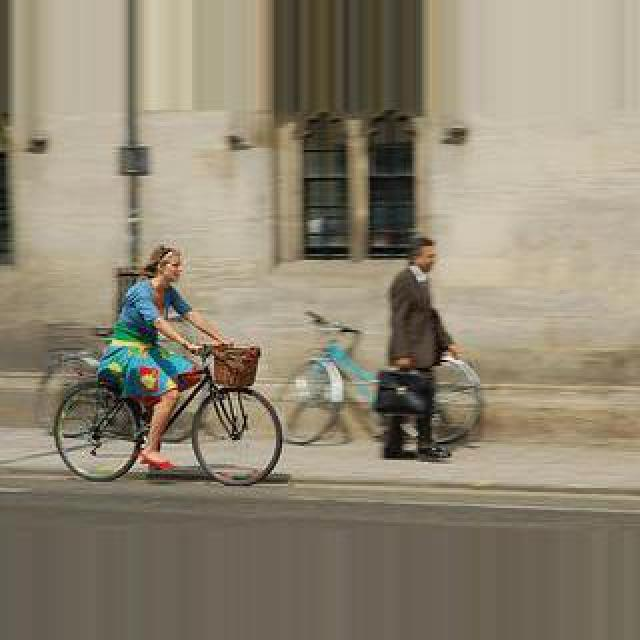MC-Bike: (98, 240, 228, 470), (382, 236, 460, 456)
Person: (52, 342, 284, 488), (284, 310, 482, 460)
